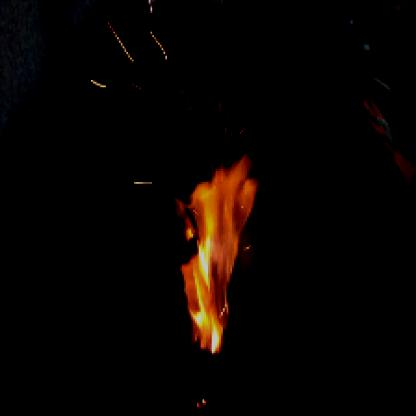Fire: (178, 148, 266, 354)
